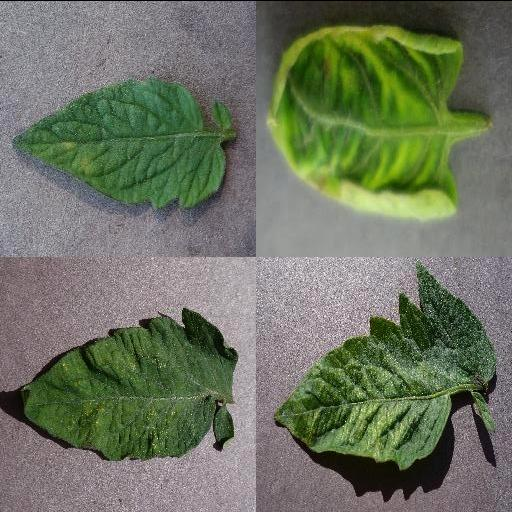Leaf Mold: (11, 78, 229, 205)
Spider Mites: (274, 260, 498, 470), (21, 307, 241, 461)
Yellow Leaf Curl Virus: (265, 22, 465, 220)
